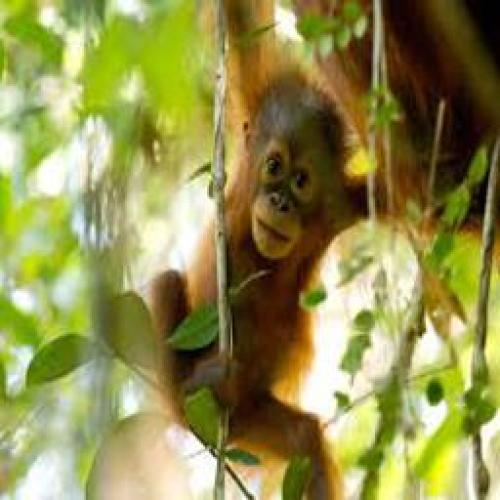orangutan-endangered: (147, 9, 365, 500)
